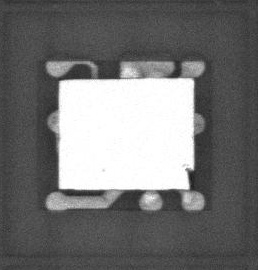DIE_INK: (99, 166, 107, 175)
